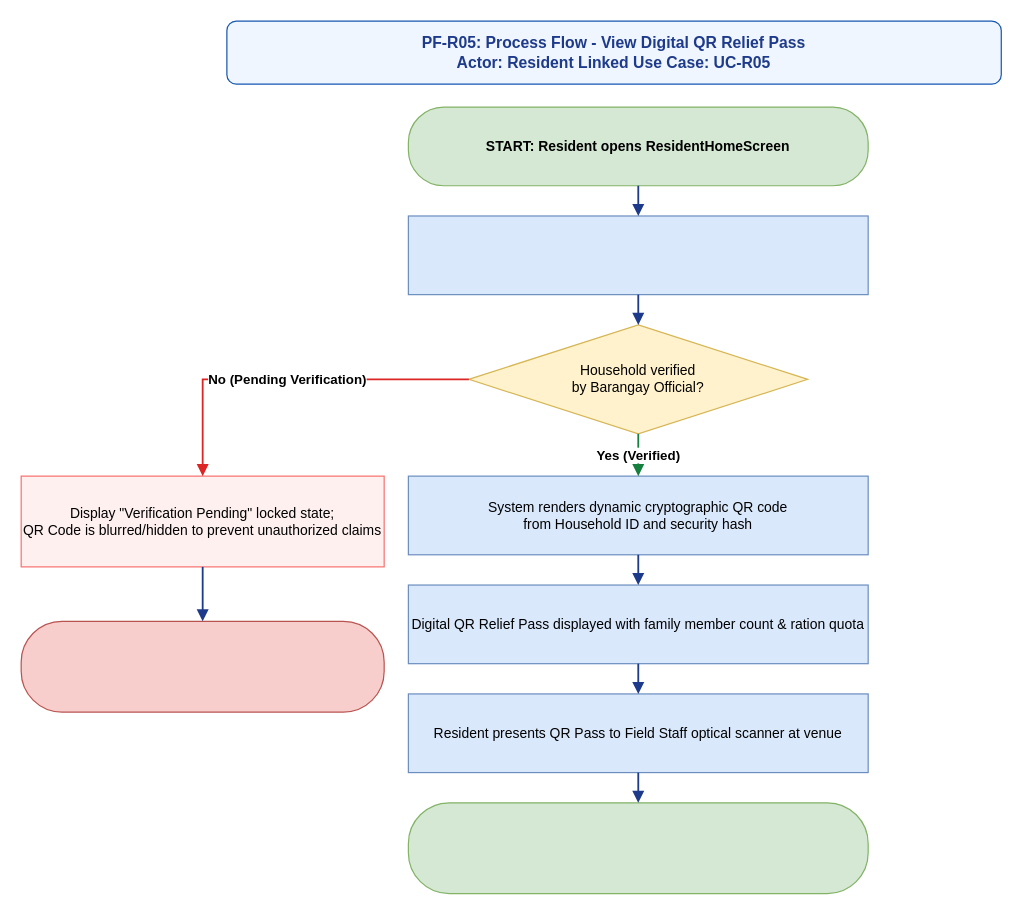
This 1022x915 diagram has some shape labels left out. Here are the shapes that lost their labels. From the top down, the centre of each, then its label:
At point 637,255: "App calls GET /api/households/me to retrieve verification status and roster".
At point 202,666: "END: QR Pass LOCKED; Resident awaits Barangay Official verification in PF-BO02".
At point 637,848: "END: QR Pass ACTIVE and ready for Field Staff optical scan in PF-FS02".
